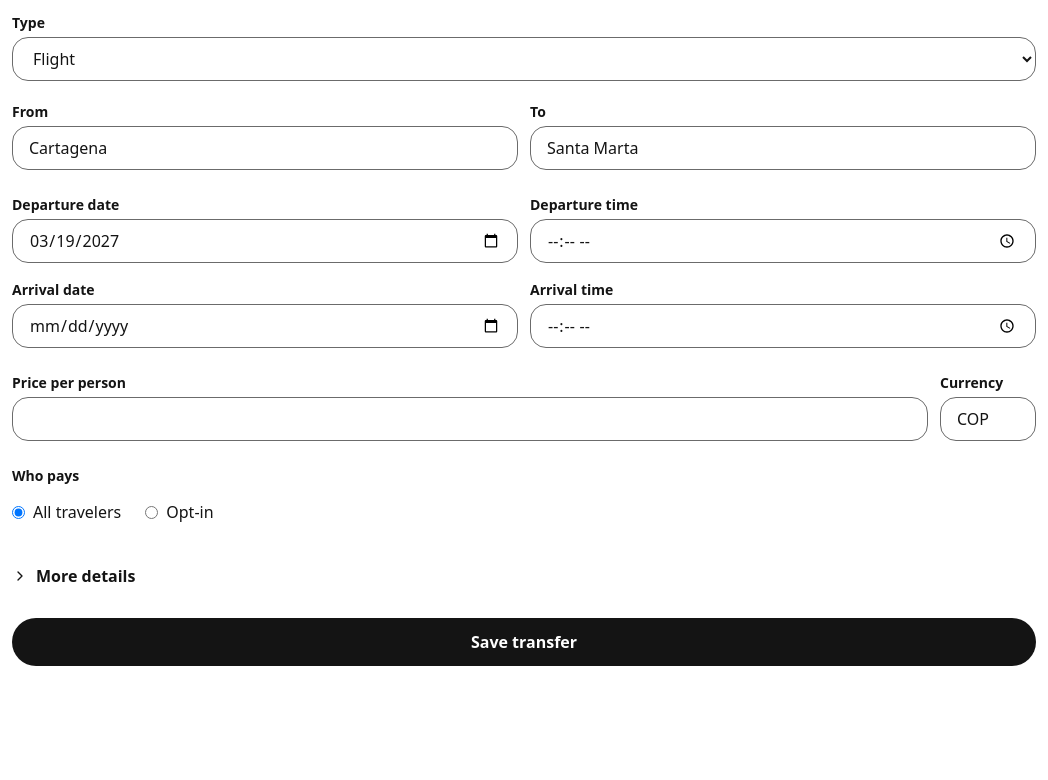
Test: TransferForm › shows the error the save answered with
Step 1. Click the button "Save transfer" → (524, 642), box [12,618,1036,666]
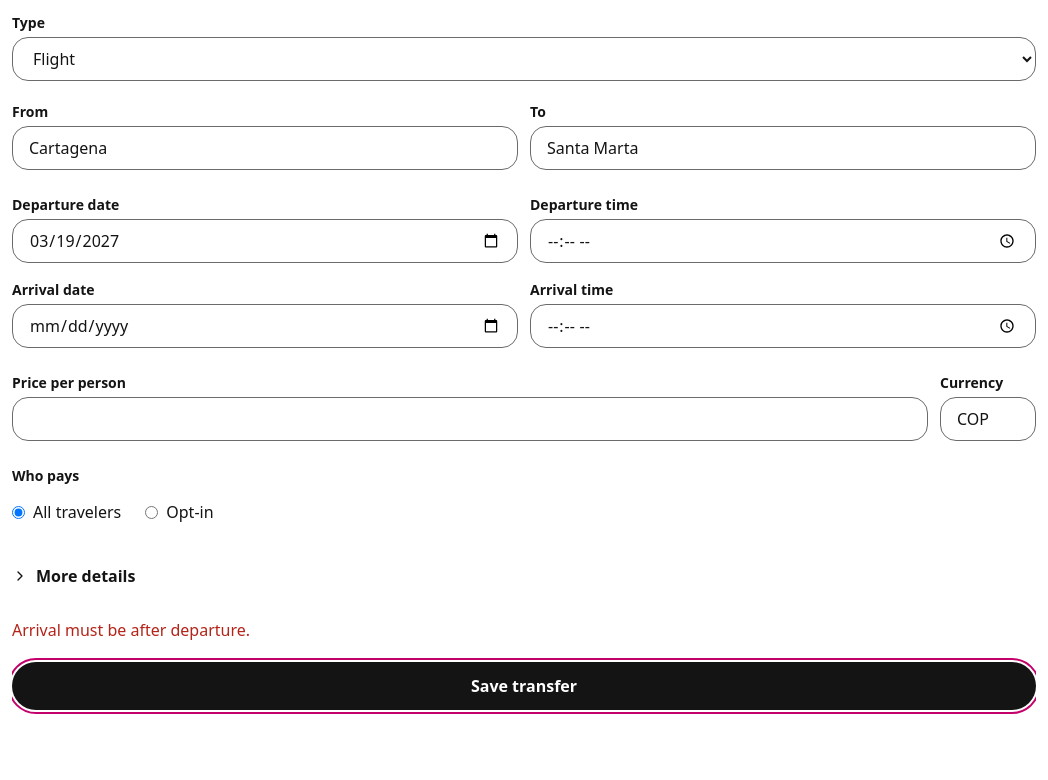
Expected: the message reads "Arrival must be after departure.", [12,619,250,641]
